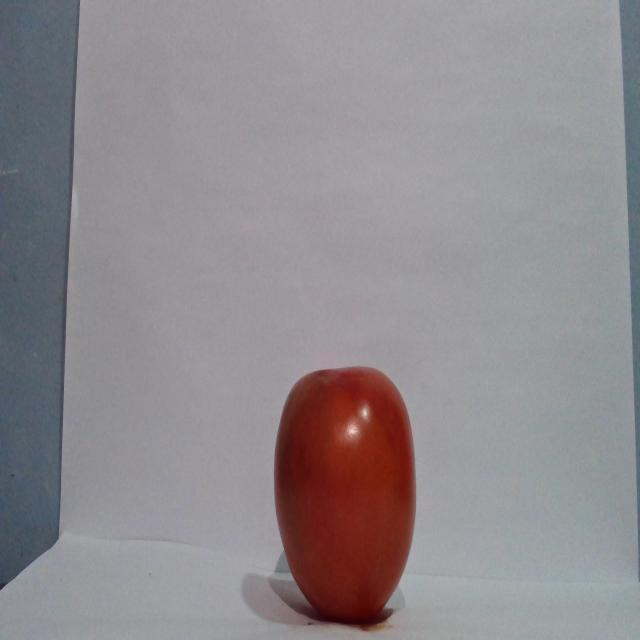Red: (272, 364, 417, 623)
